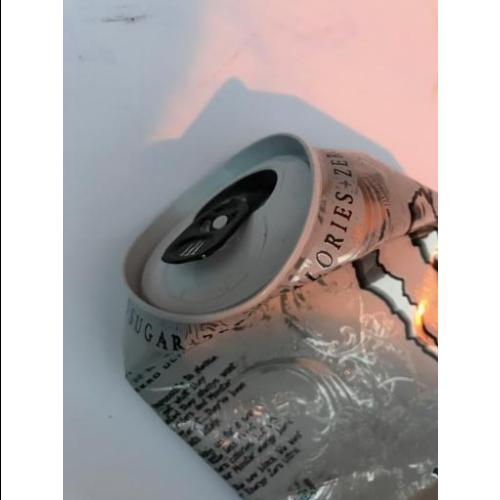metal: (124, 135, 437, 497)
